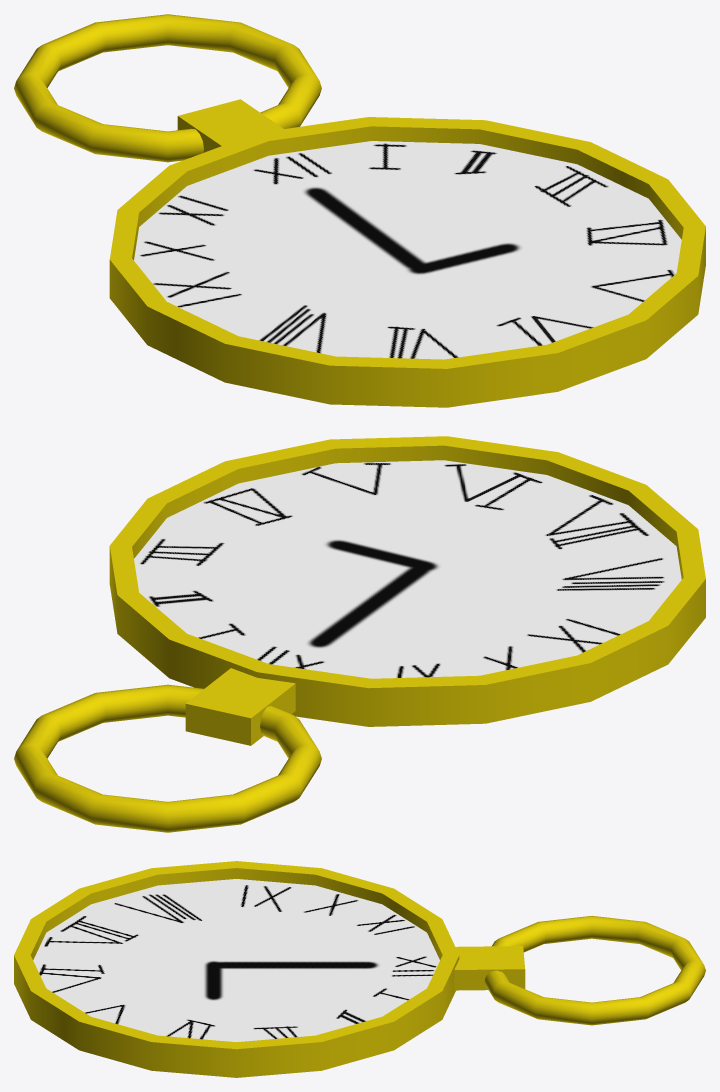
The model's file is Pocket watch.glb.
3 views of the same model, one above another, from view 1: azimuth 30°, elevation 25°; view 2: azimuth 150°, elevation 25°; view 3: azimuth 270°, elevation 25° (orthographic). The views are drawn at different scales.
Parts seen in each view (by area): view 1: Cylinder, Torus; view 2: Cylinder, Torus; view 3: Cylinder, Torus.
Boxes of the visible parts, bbox=[...] form: Cylinder: bbox=[109, 99, 705, 407]; Torus: bbox=[14, 14, 321, 162]; Cylinder: bbox=[109, 436, 705, 745]; Torus: bbox=[14, 684, 321, 832]; Cylinder: bbox=[14, 861, 525, 1077]; Torus: bbox=[484, 916, 705, 1025].
Bounding box in the file's own units: 0.3342 × 0.0238 × 0.5193.
Materials: 2 (1 with a texture image).
